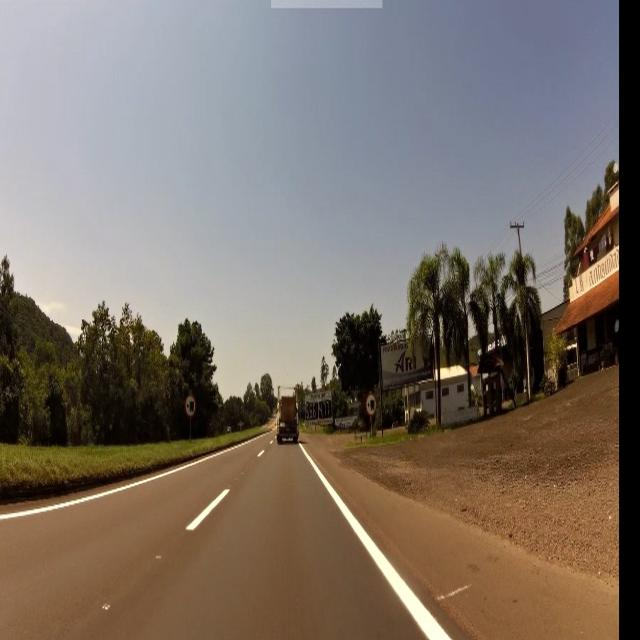R-27: (366, 392, 378, 421), (186, 397, 196, 419)
